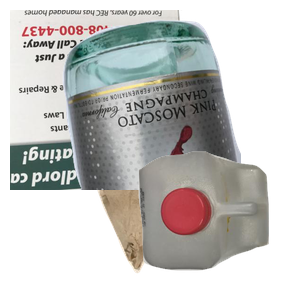glass: (60, 17, 300, 197)
paper: (10, 10, 201, 190)
plastic: (136, 149, 300, 300)
trash: (79, 123, 281, 300)
